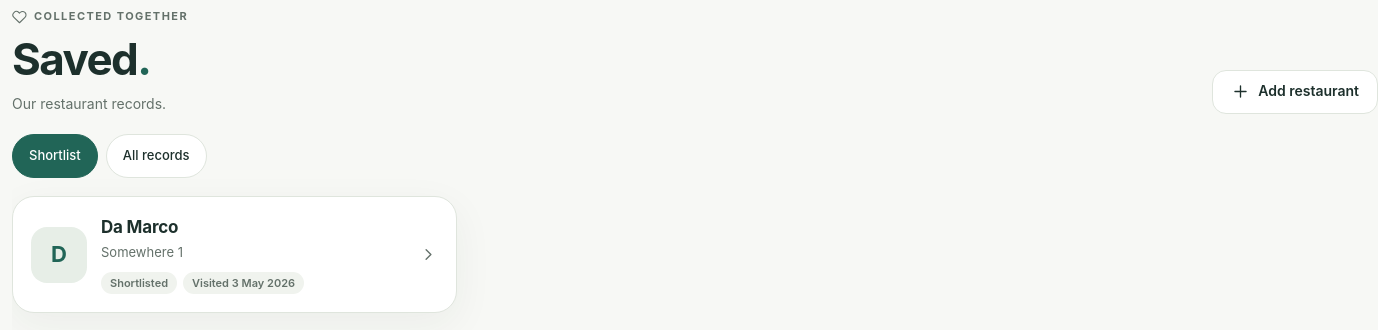
Test case: RestaurantsPage — shortlist › defaults to the shortlist with labels, and All records shows everything
Expected: the number of list items with test id "restaurant-row" is 1, top-left (12, 196), bottom-right (457, 313)
Expected: the list item with test id "restaurant-row" shows "Da Marco", top-left (31, 215), bottom-right (438, 294)
Click the button with test id "filter-all": (156, 156) top-left (106, 134), bottom-right (206, 178)
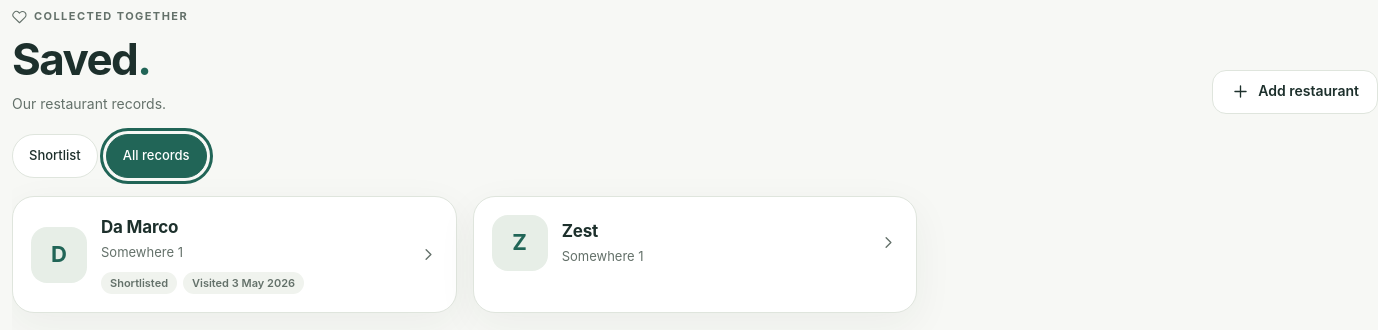
Now the number of list items with test id "restaurant-row" is 2, box top-left (12, 196), bottom-right (457, 313); top-left (473, 196), bottom-right (917, 313)
